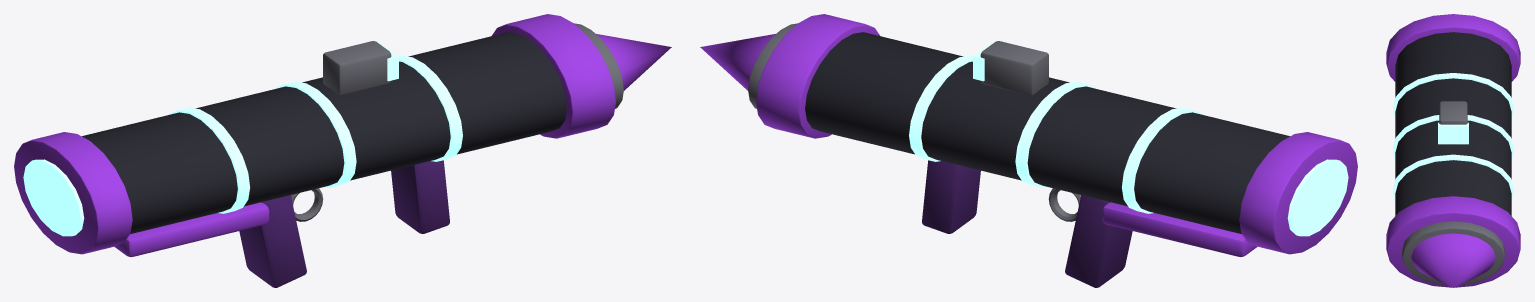
The model's file is SGP_Launcher_Neon.fbx.
3 renders of one model, left to right at view 1: azimuth 30°, elevation 25°; view 2: azimuth 150°, elevation 25°; view 3: azimuth 270°, elevation 25°, orthographic. The views are drawn at different scales.
Parts seen in each view (by area): view 1: SGP_Launcher_Neon; view 2: SGP_Launcher_Neon; view 3: SGP_Launcher_Neon.
Boxes of the visible parts, x1,y1,x2,y2 form: SGP_Launcher_Neon: (14, 14, 671, 287); SGP_Launcher_Neon: (700, 14, 1357, 287); SGP_Launcher_Neon: (1386, 14, 1520, 287).
Size of the model in its own units: 0.699 by 0.2197 by 0.1664.
